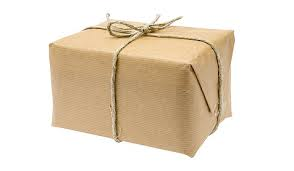package: (47, 12, 244, 160)
